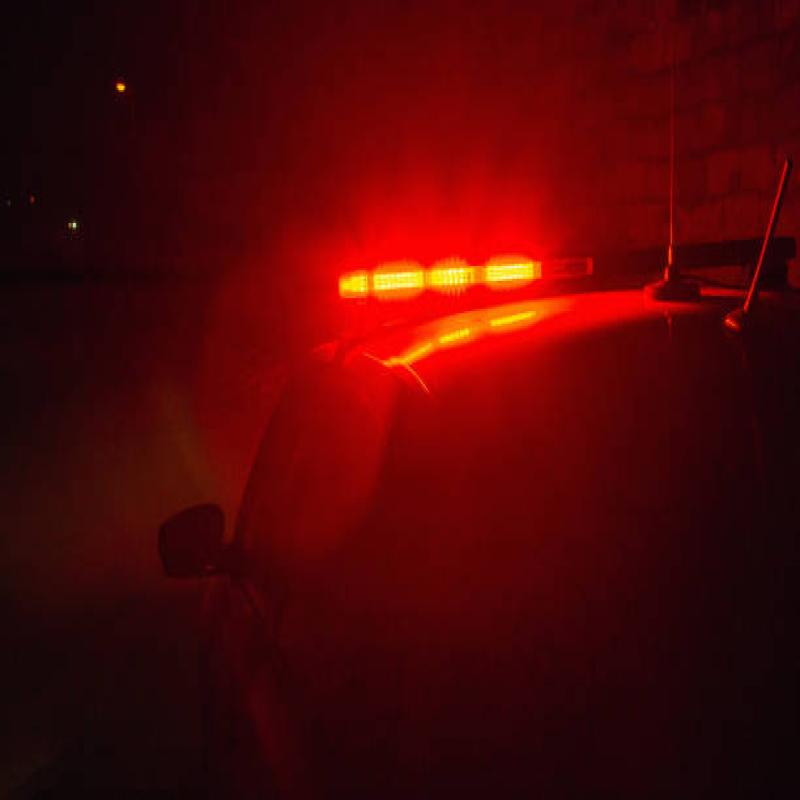AmbulanceSiren: (334, 244, 613, 306)
